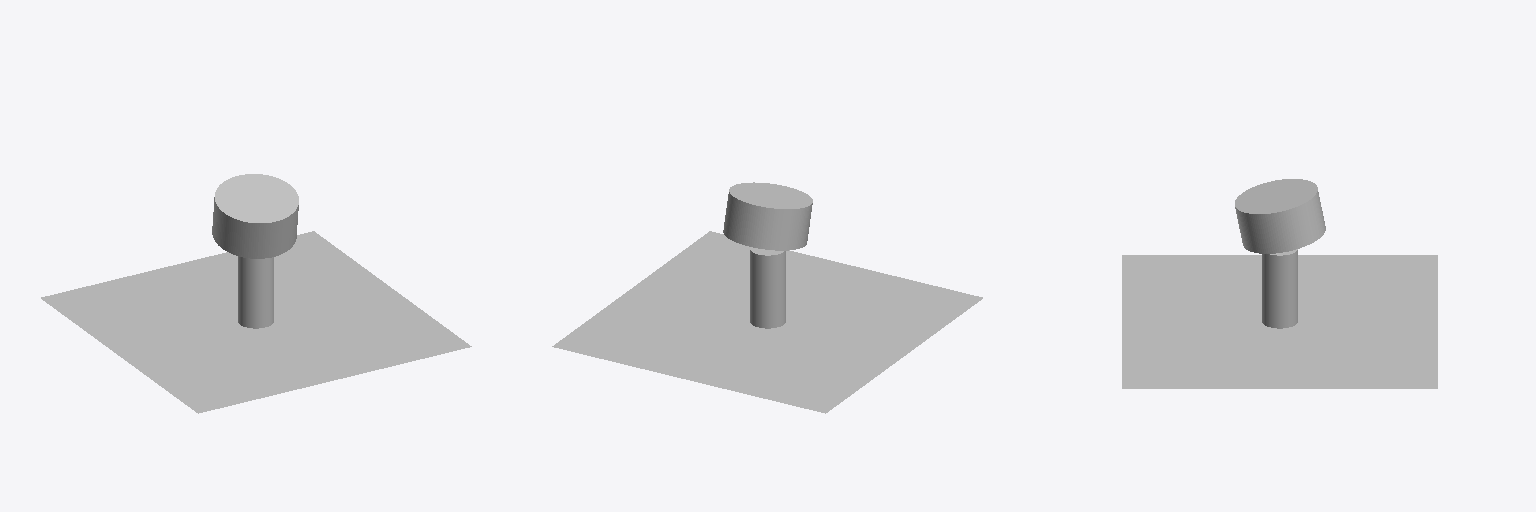
File: lamp27.obj
3 renders of one model, left to right at view 1: azimuth 30°, elevation 25°; view 2: azimuth 150°, elevation 25°; view 3: azimuth 270°, elevation 25°, orthographic.
Visible parts, largest first — view 1: Plane, Cylinder.002, Cylinder; view 2: Plane, Cylinder.002, Cylinder; view 3: Plane, Cylinder.002, Cylinder.
Boxes of the visible parts, x1=… form: Plane: x1=41, y1=231, x2=471, y2=413; Cylinder.002: x1=212, y1=174, x2=298, y2=258; Cylinder: x1=238, y1=257, x2=273, y2=328; Plane: x1=552, y1=231, x2=982, y2=413; Cylinder.002: x1=723, y1=182, x2=812, y2=250; Cylinder: x1=750, y1=257, x2=785, y2=328; Plane: x1=1122, y1=255, x2=1437, y2=388; Cylinder.002: x1=1235, y1=179, x2=1325, y2=253; Cylinder: x1=1262, y1=257, x2=1297, y2=328.
Bounding box in the file's own units: 17.18 × 7.95 × 17.18.